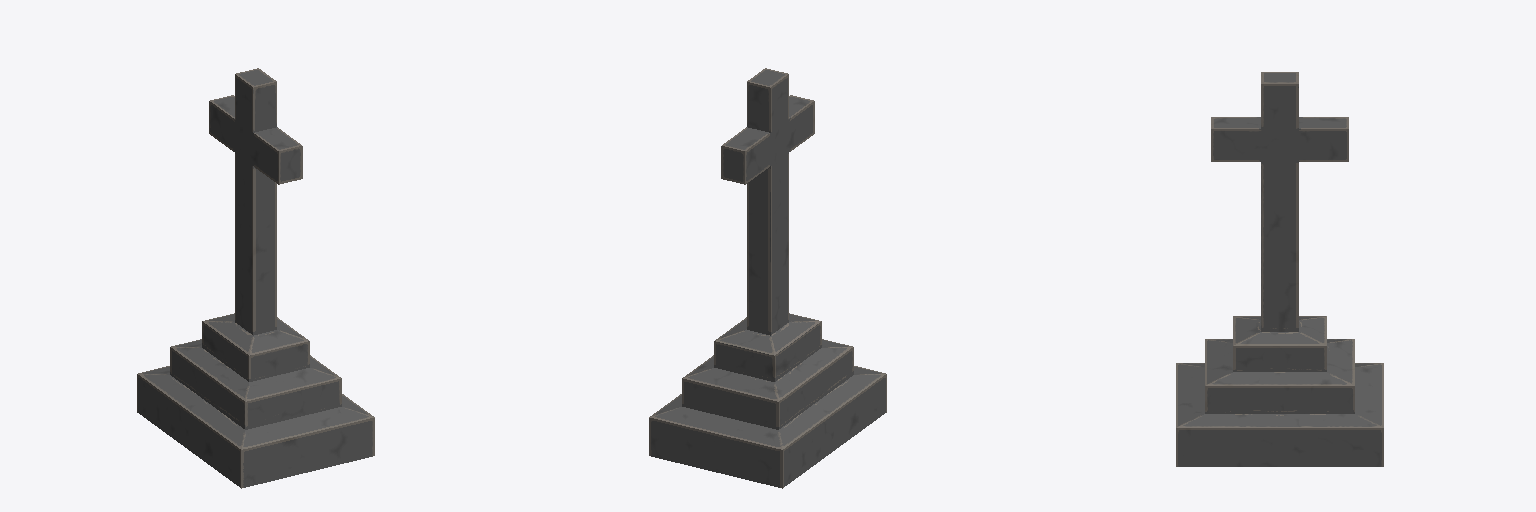
The picture shows the model from 3 angles: view 1: azimuth 30°, elevation 25°; view 2: azimuth 150°, elevation 25°; view 3: azimuth 270°, elevation 25°; orthographic projection.
Parts seen in each view (by area): view 1: Gravestone01; view 2: Gravestone01; view 3: Gravestone01.
Part boxes in pixels (left/top/right/bottom): Gravestone01: left=137, top=68, right=374, bottom=488; Gravestone01: left=649, top=68, right=886, bottom=488; Gravestone01: left=1176, top=72, right=1383, bottom=466.
Size of the model in its own units: 0.7493 by 1.91 by 1.01.
1 materials, 1 textured.